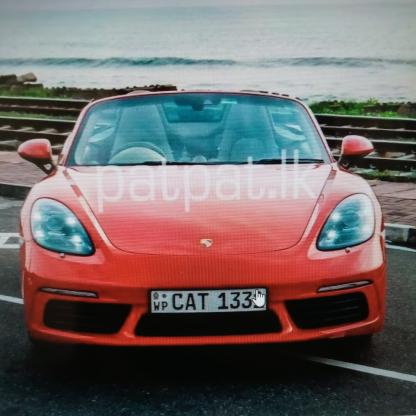car front: (18, 86, 394, 352)
number plate: (141, 291, 264, 313)
